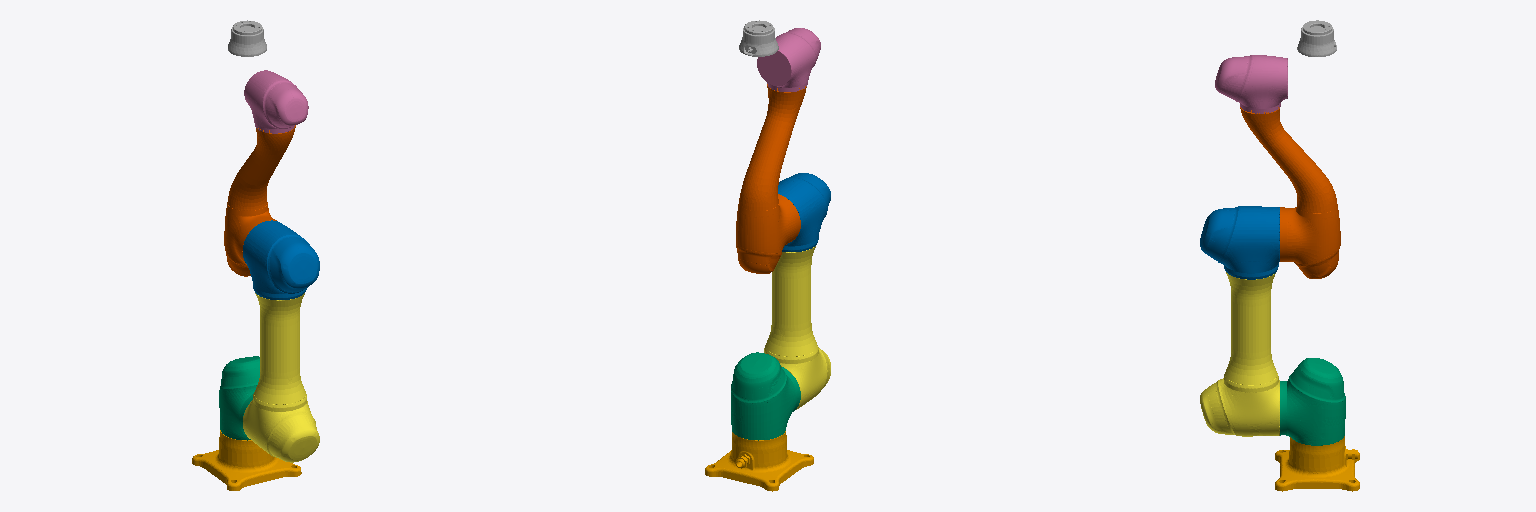
The robot description file, URDF, robot "a0509_from_step":
<?xml version="1.0"?>
<!--
  Generated from A0509_Assembly.step (Desktop/A0509_Assembly.step).
  Kinematics (joint origins/axes/limits) and inertial values are reused
  as-is from ../doosan_a0509/a0509.urdf (verified reference model for the
  same physical robot) since the STEP file itself carries no mate/joint
  information. Meshes below were re-exported from the STEP solids and
  transformed into each joint's local frame to match that convention.
-->
<robot name="a0509_from_step">
	<link name="base_link">
		<inertial>
			<mass value="2.198"/>
			<origin xyz="-1e-06   -0.001096    0.058957"/>
			<inertia ixx="0.010511" ixy="4.9786e-06" ixz="7.1839e-06" iyy="0.012033"
				iyz="-2.3529e-05"
				izz="0.012481"/>
		</inertial>
		<collision>
			<origin rpy="0 0 0" xyz="0 0 0" />
			<geometry>
				<mesh filename="meshes/Base_A509.stl" scale="1 1 1" />
			</geometry>
		</collision>
		<visual>
			<origin rpy="0 0 0" xyz="0 0 0" />
			<geometry>
				<mesh filename="meshes/Base_A509.stl" scale="1 1 1" />
			</geometry>
		</visual>
	</link>
	<link name="base"/>
	<joint name="base_link-base" type="fixed">
		<origin rpy="0 0 0" xyz="0 0 0.450"/>
		<parent link="base_link"/>
		<child link="base"/>
	</joint>
	<!-- joint 1 -->
	<joint name="joint_1" type="revolute">
		<parent link="base_link" />
		<child link="link_1" />
		<origin rpy="0 0 0" xyz="0 0 0.1560" />
		<axis xyz="0 0 1" />
		<limit effort="194" lower="-6.2832" upper="6.2832" velocity="3.1416"/>
		<dynamics friction="0" />
	</joint>
	<link name="link_1">
		<inertial>
			<mass value="3.715"/>
			<origin xyz="-6.9e-05    0.024423   -0.007375"/>
			<inertia ixx="0.01899" ixy="7.8574e-07" ixz="1.865e-05" iyy="0.013731" iyz="-0.00072828"
				izz="0.01686"/>
		</inertial>
		<collision>
			<origin rpy="0 0 0" xyz="0 0 0" />
			<geometry>
				<mesh filename="meshes/J1_A0509.stl" scale="1 1 1" />
			</geometry>
		</collision>
		<visual>
			<origin rpy="0 0 0" xyz="0 0 0" />
			<geometry>
				<mesh filename="meshes/J1_A0509.stl" scale="1 1 1" />
			</geometry>
		</visual>
	</link>
	<!-- joint2 -->
	<joint name="joint_2" type="revolute">
		<parent link="link_1" />
		<child link="link_2" />
		<origin rpy="0 -1.571 -1.571" xyz="0 0 0" />
		<axis xyz="0 0 1" />
		<limit effort="194" lower="-6.2832" upper="6.2832" velocity="3.1416"/>
		<dynamics friction="0" />
	</joint>
	<link name="link_2">
		<inertial>
			<mass value="6.837"/>
			<origin xyz="0.20449 -1.2521e-17     0.13271"/>
			<inertia ixx="0.019399" ixy="0.00010317" ixz="4.2985e-06" iyy="0.25627" iyz="5.1674e-06"
				izz="0.25442"/>
		</inertial>
		<collision>
			<origin rpy="0 0 0" xyz="0 0 0" />
			<geometry>
				<mesh filename="meshes/J2_A0509.stl" scale="1 1 1" />
			</geometry>
		</collision>
		<visual>
			<origin rpy="0 0 0" xyz="0 0 0" />
			<geometry>
				<mesh filename="meshes/J2_A0509.stl" scale="1 1 1" />
			</geometry>
		</visual>
		<collision>
			<origin rpy="0 0 0" xyz="0 0 0" />
			<geometry>
				<mesh filename="meshes/LINK1_A0509.stl" scale="1 1 1" />
			</geometry>
		</collision>
		<visual>
			<origin rpy="0 0 0" xyz="0 0 0" />
			<geometry>
				<mesh filename="meshes/LINK1_A0509.stl" scale="1 1 1" />
			</geometry>
		</visual>
	</link>
	<!-- joint3 -->
	<joint name="joint_3" type="revolute">
		<parent link="link_2" />
		<child link="link_3" />
		<origin rpy="0 0 1.571" xyz="0.409 0 0" />
		<axis xyz="0 0 1" />
		<limit effort="163" lower="-2.7925" upper="2.7925" velocity="3.1416"/>
		<dynamics friction="0" />
	</joint>
	<link name="link_3">
		<inertial>
			<mass value="2.769"/>
			<origin xyz="7.1e-05   -0.005123    0.033009"/>
			<inertia ixx="0.012526" ixy="-7.1869e-06" ixz="1.3345e-05" iyy="0.013868"
				iyz="-0.00047287"
				izz="0.0088186"/>
		</inertial>
		<collision>
			<origin rpy="0 0 0" xyz="0 0 0" />
			<geometry>
				<mesh filename="meshes/J3_A0509.stl" scale="1 1 1" />
			</geometry>
		</collision>
		<visual>
			<origin rpy="0 0 0" xyz="0 0 0" />
			<geometry>
				<mesh filename="meshes/J3_A0509.stl" scale="1 1 1" />
			</geometry>
		</visual>
	</link>
	<!-- joint4 -->
	<joint name="joint_4" type="revolute">
		<parent link="link_3" />
		<child link="link_4" />
		<origin rpy="1.571 0 0" xyz="0 -0.367 0" />
		<axis xyz="0 0 1" />
		<limit effort="50" lower="-6.2832" upper="6.2832" velocity="6.2832"/>
		<dynamics friction="0" />
	</joint>
	<link name="link_4">
		<inertial>
			<mass value="2.679"/>
			<origin xyz="-8.6e-05    0.086348   -0.086031"/>
			<inertia ixx="0.056068" ixy="2.2109e-05" ixz="1.4522e-05" iyy="0.047122" iyz="-0.014997"
				izz="0.013329"/>
		</inertial>
		<collision>
			<origin rpy="0 0 0" xyz="0 0 0" />
			<geometry>
				<mesh filename="meshes/J4_A0509.stl" scale="1 1 1" />
			</geometry>
		</collision>
		<visual>
			<origin rpy="0 0 0" xyz="0 0 0" />
			<geometry>
				<mesh filename="meshes/J4_A0509.stl" scale="1 1 1" />
			</geometry>
		</visual>
		<collision>
			<origin rpy="0 0 0" xyz="0 0 0" />
			<geometry>
				<mesh filename="meshes/LINK2_A0509.stl" scale="1 1 1" />
			</geometry>
		</collision>
		<visual>
			<origin rpy="0 0 0" xyz="0 0 0" />
			<geometry>
				<mesh filename="meshes/LINK2_A0509.stl" scale="1 1 1" />
			</geometry>
		</visual>
	</link>
	<!-- joint5 -->
	<joint name="joint_5" type="revolute">
		<parent link="link_4" />
		<child link="link_5" />
		<origin rpy="-1.571 0 0" xyz="0 0 0" />
		<axis xyz="0 0 1" />
		<limit effort="50" lower="-6.2832" upper="6.2832" velocity="6.2832"/>
		<dynamics friction="0" />
	</joint>
	<link name="link_5">
		<inertial>
			<mass value="2.051"/>
			<origin xyz="9.1e-05   -0.006457    0.015434"/>
			<inertia ixx="0.0090788" ixy="-5.3997e-06" ixz="8.3955e-06" iyy="0.0084721"
				iyz="-0.0001816"
				izz="0.010453"/>
		</inertial>
		<collision>
			<origin rpy="0 0 0" xyz="0 0 0" />
			<geometry>
				<mesh filename="meshes/SOLID.stl" scale="1 1 1" />
			</geometry>
		</collision>
		<visual>
			<origin rpy="0 0 0" xyz="0 0 0" />
			<geometry>
				<mesh filename="meshes/SOLID.stl" scale="1 1 1" />
			</geometry>
		</visual>
	</link>
	<!-- joint6 -->
	<joint name="joint_6" type="revolute">
		<parent link="link_5" />
		<child link="link_6" />
		<origin rpy="1.571 0 0" xyz="0 -0.124 0" />
		<axis xyz="0 0 1" />
		<limit effort="50" lower="-6.2832" upper="6.2832" velocity="6.2832"/>
		<dynamics friction="0" />
	</joint>
	<link name="link_6">
		<inertial>
			<mass value="0.773"/>
			<origin xyz="-2.2e-05      -7e-06   -0.051746"/>
			<inertia ixx="0.0087483" ixy="7.9428e-06" ixz="1.7034e-06" iyy="0.0078566"
				iyz="9.6857e-06"
				izz="0.0044452"/>
		</inertial>
		<collision>
			<origin rpy="0 0 0" xyz="0 0 0" />
			<geometry>
				<mesh filename="meshes/J6_A0509.stl" scale="1 1 1" />
			</geometry>
		</collision>
		<visual>
			<origin rpy="0 0 0" xyz="0 0 0" />
			<geometry>
				<mesh filename="meshes/J6_A0509.stl" scale="1 1 1" />
			</geometry>
		</visual>
		<collision>
			<origin rpy="0 0 0" xyz="0 0 0" />
			<geometry>
				<mesh filename="meshes/TOOL_FLANGE_A0509.stl" scale="1 1 1" />
			</geometry>
		</collision>
		<visual>
			<origin rpy="0 0 0" xyz="0 0 0" />
			<geometry>
				<mesh filename="meshes/TOOL_FLANGE_A0509.stl" scale="1 1 1" />
			</geometry>
		</visual>
	</link>
</robot>

--- What the picture shows (computed from the rendered views, not written in the file) ---
Views: 3 orthographic renders of the robot side by side, from view 1: azimuth 30°, elevation 25°; view 2: azimuth 150°, elevation 25°; view 3: azimuth 270°, elevation 25°.
Model a0509_from_step with 8 links and 7 joints (6 revolute, 1 fixed), rooted at base_link, posed every joint at zero.
Links seen in each view (by area): view 1: link_2, link_3, link_4, base_link, link_5, link_1, link_6; view 2: link_4, link_2, link_1, base_link, link_5, link_3, link_6; view 3: link_2, link_4, link_1, link_3, base_link, link_5, link_6.
Link boxes in pixels (x1=…): link_2: x1=243, y1=293, x2=319, y2=462; link_3: x1=243, y1=220, x2=319, y2=299; link_4: x1=224, y1=125, x2=295, y2=276; base_link: x1=192, y1=430, x2=301, y2=490; link_5: x1=244, y1=70, x2=308, y2=133; link_1: x1=219, y1=356, x2=259, y2=440; link_6: x1=228, y1=20, x2=266, y2=56; link_4: x1=736, y1=84, x2=806, y2=273; link_2: x1=764, y1=246, x2=830, y2=409; link_1: x1=731, y1=352, x2=800, y2=440; base_link: x1=705, y1=431, x2=813, y2=491; link_5: x1=757, y1=28, x2=820, y2=91; link_3: x1=778, y1=173, x2=830, y2=251; link_6: x1=739, y1=20, x2=778, y2=56; link_2: x1=1200, y1=272, x2=1279, y2=436; link_4: x1=1240, y1=107, x2=1340, y2=278; link_1: x1=1280, y1=358, x2=1345, y2=445; link_3: x1=1200, y1=206, x2=1279, y2=279; base_link: x1=1275, y1=436, x2=1359, y2=491; link_5: x1=1215, y1=55, x2=1287, y2=113; link_6: x1=1297, y1=20, x2=1336, y2=56.
Bounding box of the posed robot: 0.182 × 0.3421 × 1.05 m (x, y, z).
9 mesh visuals loaded from 10 distinct referenced files (9 binary STL); not drawn: 1 (reference not matched to a file when rendering).
